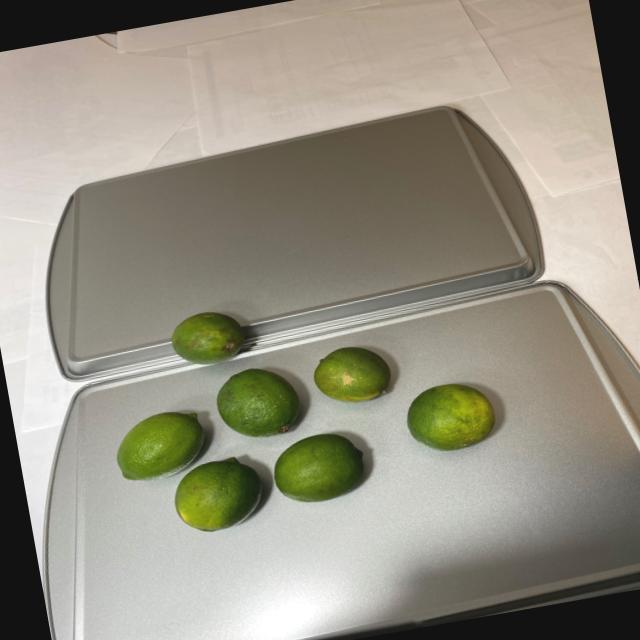lemon: (92, 265, 508, 545)
